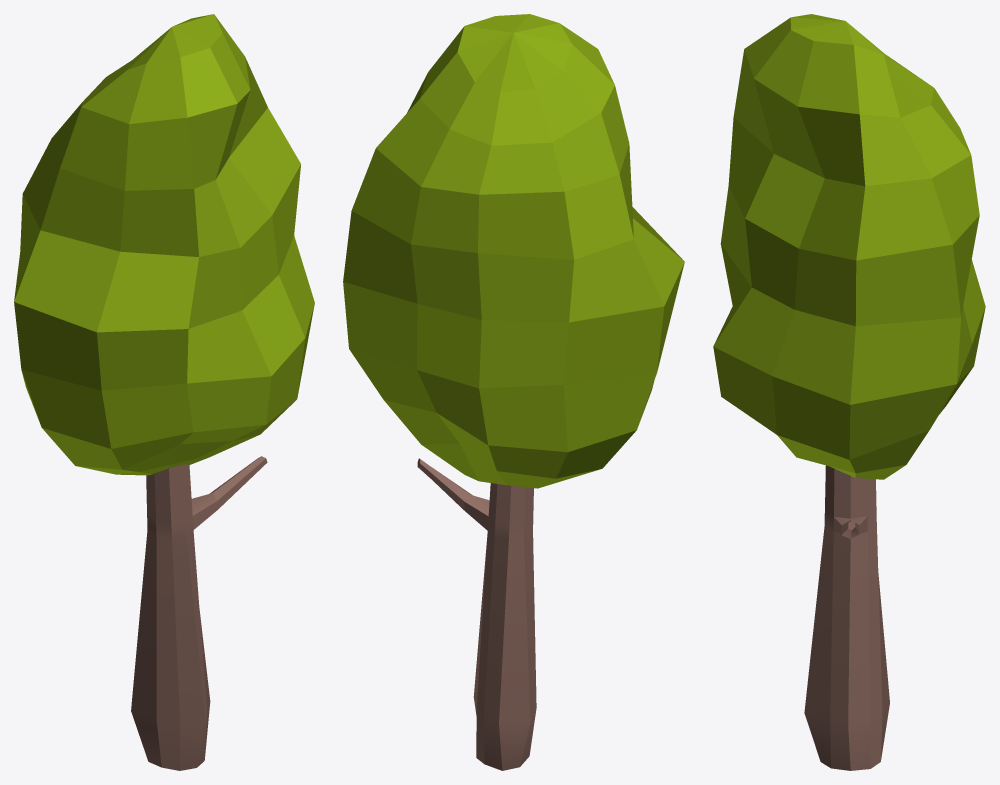
File: tree004.fbx
3 renders of one model, left to right at view 1: azimuth 30°, elevation 25°; view 2: azimuth 150°, elevation 25°; view 3: azimuth 270°, elevation 25°, orthographic.
Parts seen in each view (by area): view 1: tree004; view 2: tree004; view 3: tree004.
Part boxes in pixels (x1,y1,x2,y2): tree004: (14,14,314,770); tree004: (343,14,684,770); tree004: (713,14,985,770).
Bounding box in the file's own units: 7.58 × 5.94 × 17.77.
